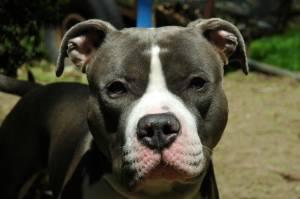dog-american_pit_bull_terrier: (54, 16, 247, 188)
